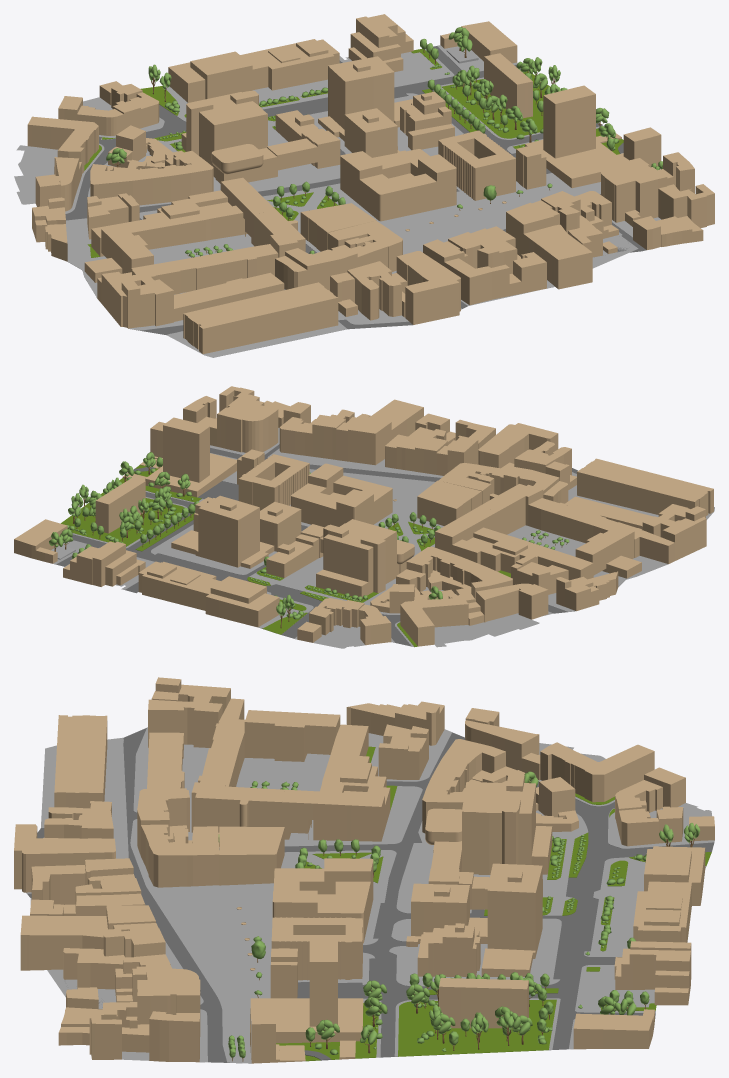
Rendered from RUR_Usti - revitalizace1.obj.
3 views of the same model, one above another, from view 1: azimuth 30°, elevation 25°; view 2: azimuth 150°, elevation 25°; view 3: azimuth 270°, elevation 25° (orthographic). The views are drawn at different scales.
Visible parts, largest first — view 1: Mesh634 Model; view 2: Mesh634 Model; view 3: Mesh634 Model.
Boxes of the visible parts, box(x1,y1,x2,y2) form: Mesh634 Model: box(14, 14, 714, 357); Mesh634 Model: box(14, 386, 714, 648); Mesh634 Model: box(14, 677, 714, 1063).
Bounding box in the file's own units: 416 × 49.38 × 369.
